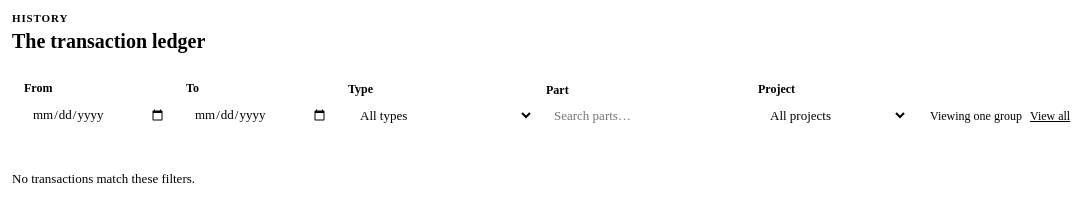
Test case: History › an initialGroupId pre-fills the group filter and shows a clear chip
The width and height of the screenshot is (1088, 200).
Expected: the text "Viewing one group" is shown, [930,109,1022,124]
Click the button "View all". click: coordinates (1050, 116)
box: [1030,109,1070,124]
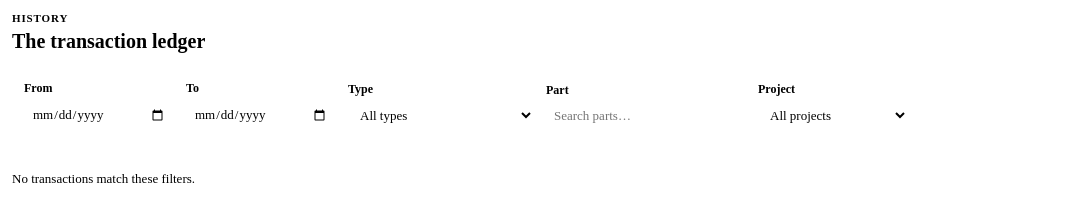
Expected: the text "Viewing one group" is gone
